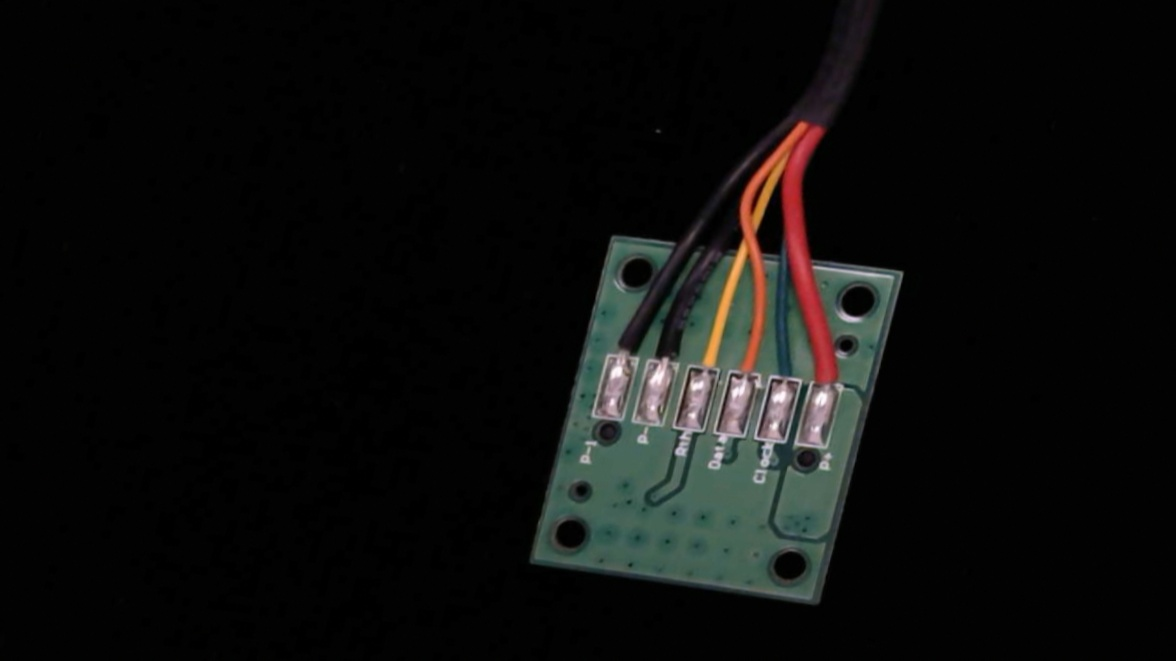Black: (636, 309, 692, 387)
Black1: (596, 307, 648, 379)
Green: (761, 336, 811, 401)
Orange: (720, 318, 773, 395)
Red: (802, 330, 856, 405)
Yellow: (682, 312, 737, 390)
